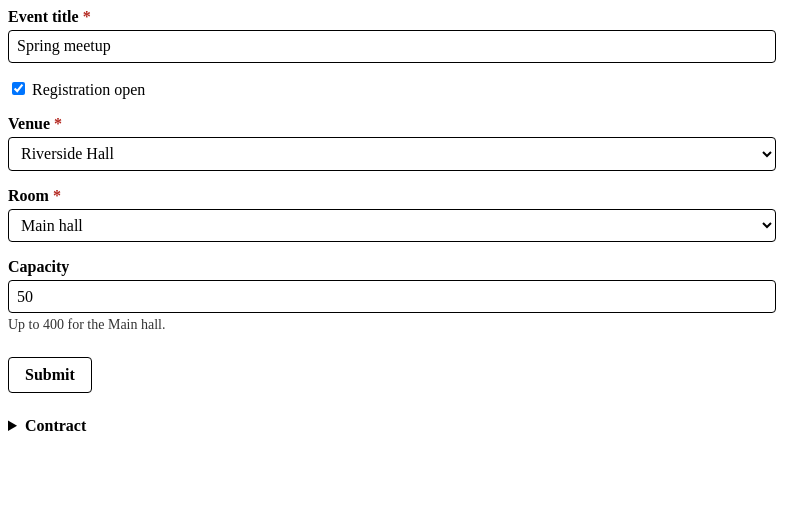
Scenario: submitting an operation that only reads › says the values were accepted and nothing was written, and stays on the page
The width and height of the screenshot is (793, 508).
Click the button "Submit".
click(50, 375)  # box x1=8 y1=357 x2=92 y2=393
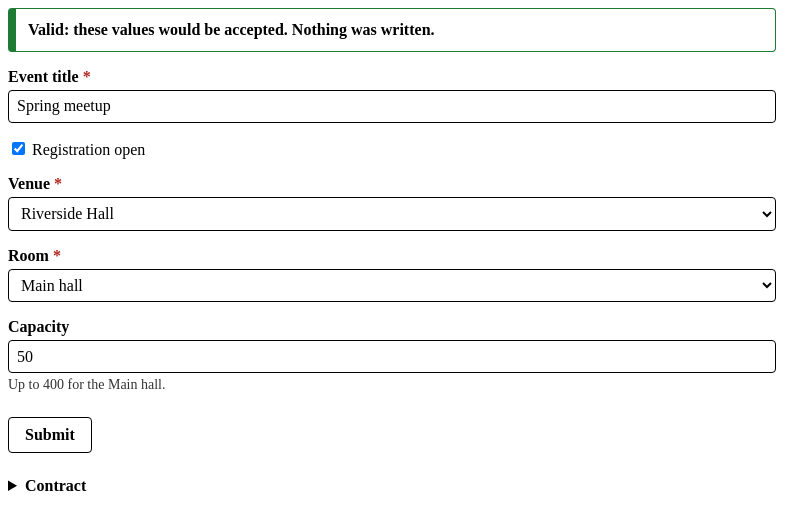
Expected: the message reads "Valid: these values would be accepted. Nothing was written.", x1=28 y1=21 x2=434 y2=38
